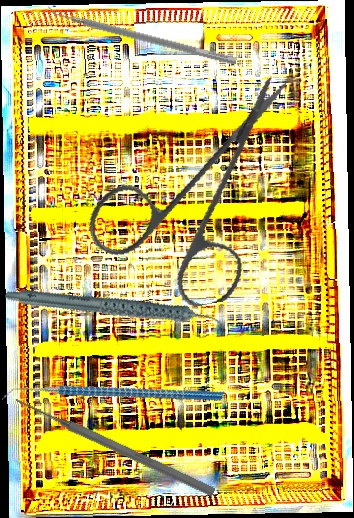Chopper: (0, 318, 225, 476)
Handpiece: (3, 245, 228, 376)
Iris Scissors: (67, 75, 327, 324)
Pusher: (13, 393, 217, 499)
Spatula Surgical: (44, 1, 240, 66)
